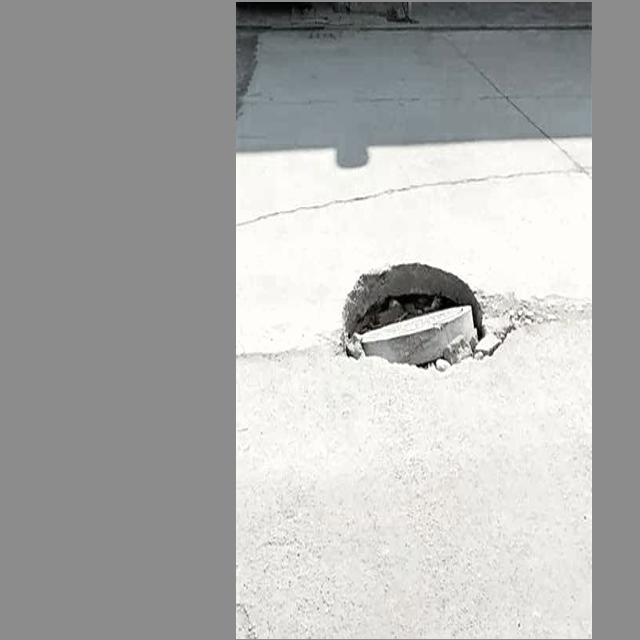circle: (326, 246, 536, 403)
